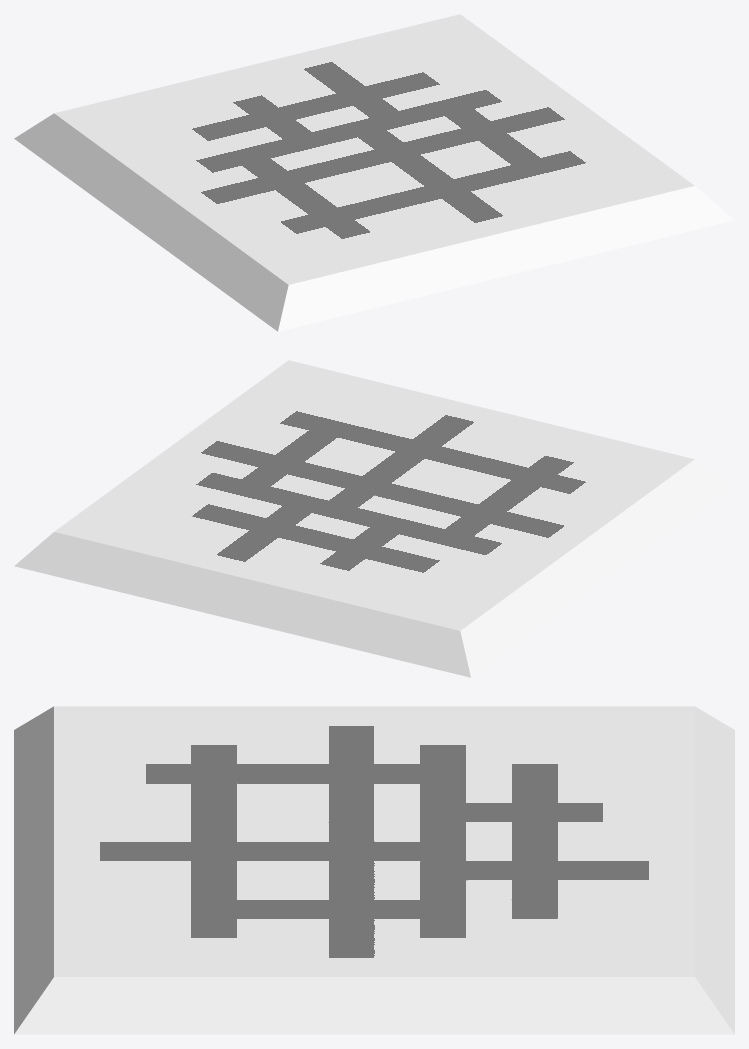
The model's file is city.glb.
The picture shows the model from 3 angles, top to bottom: view 1: azimuth 30°, elevation 25°; view 2: azimuth 150°, elevation 25°; view 3: azimuth 270°, elevation 25°; orthographic projection. The views are drawn at different scales.
Visible parts, largest first — view 1: slab; view 2: slab; view 3: slab.
Boxes of the visible parts, bbox=[...] form: slab: bbox=[14, 14, 734, 331]; slab: bbox=[14, 360, 734, 677]; slab: bbox=[14, 706, 734, 1034].
Size of the model in its own units: 1 by 0.0625 by 1.
1 material, 1 textured.
